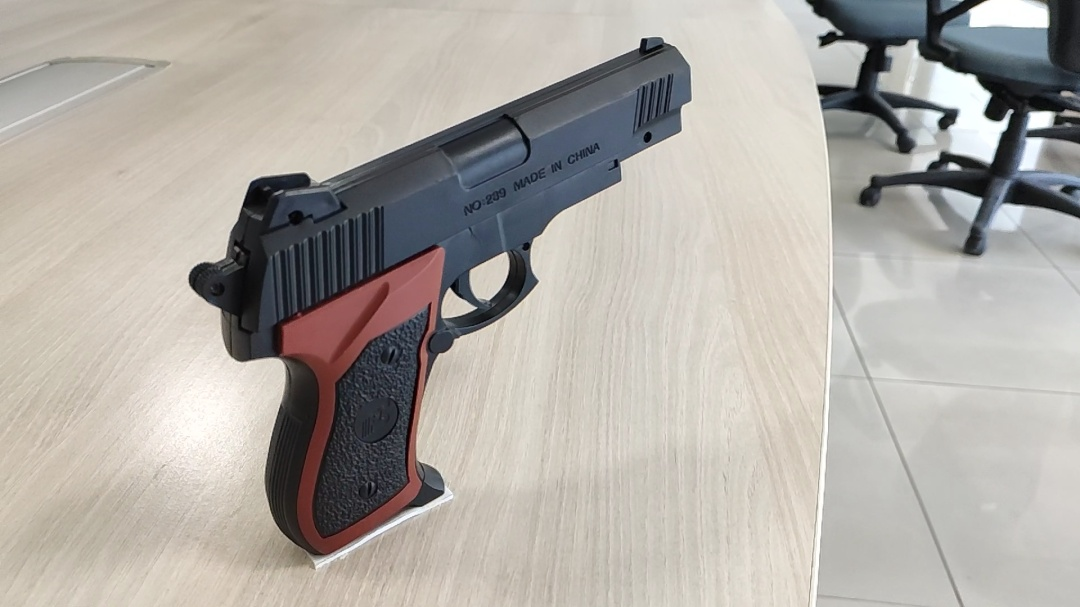gun: (365, 221, 404, 282)
